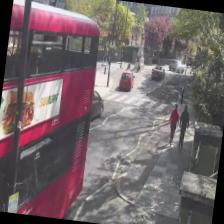person: (175, 104, 190, 150), (164, 102, 180, 145)
